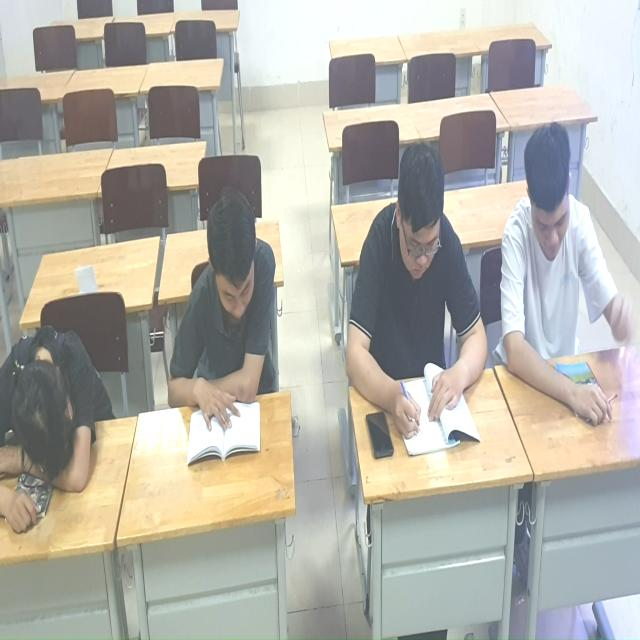read: (345, 140, 491, 467), (500, 120, 640, 434), (171, 183, 285, 471), (170, 182, 283, 470)
sleep: (1, 314, 114, 543)
